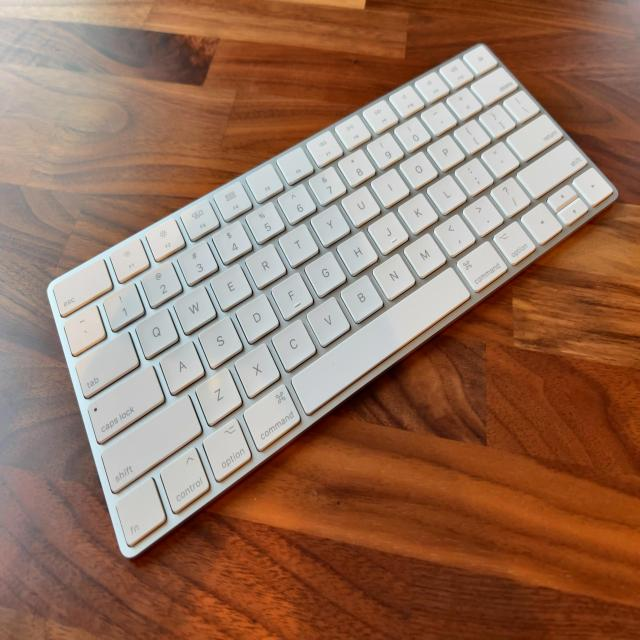keyboard: (51, 45, 614, 557)
